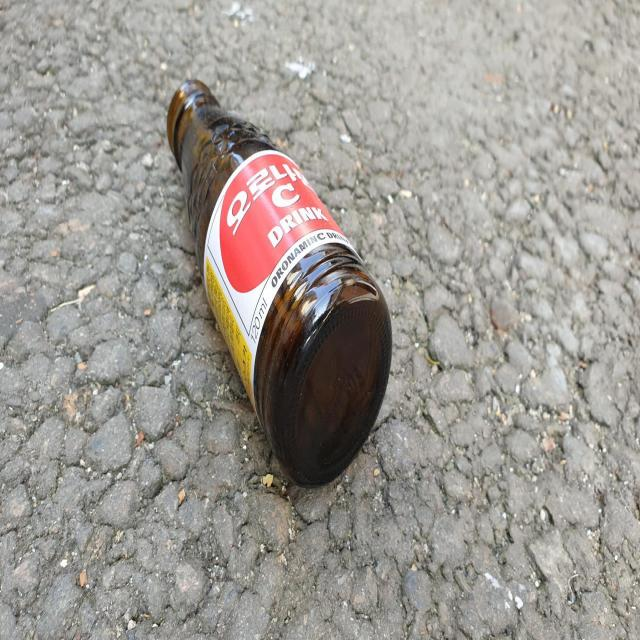glass: (167, 79, 392, 486)
